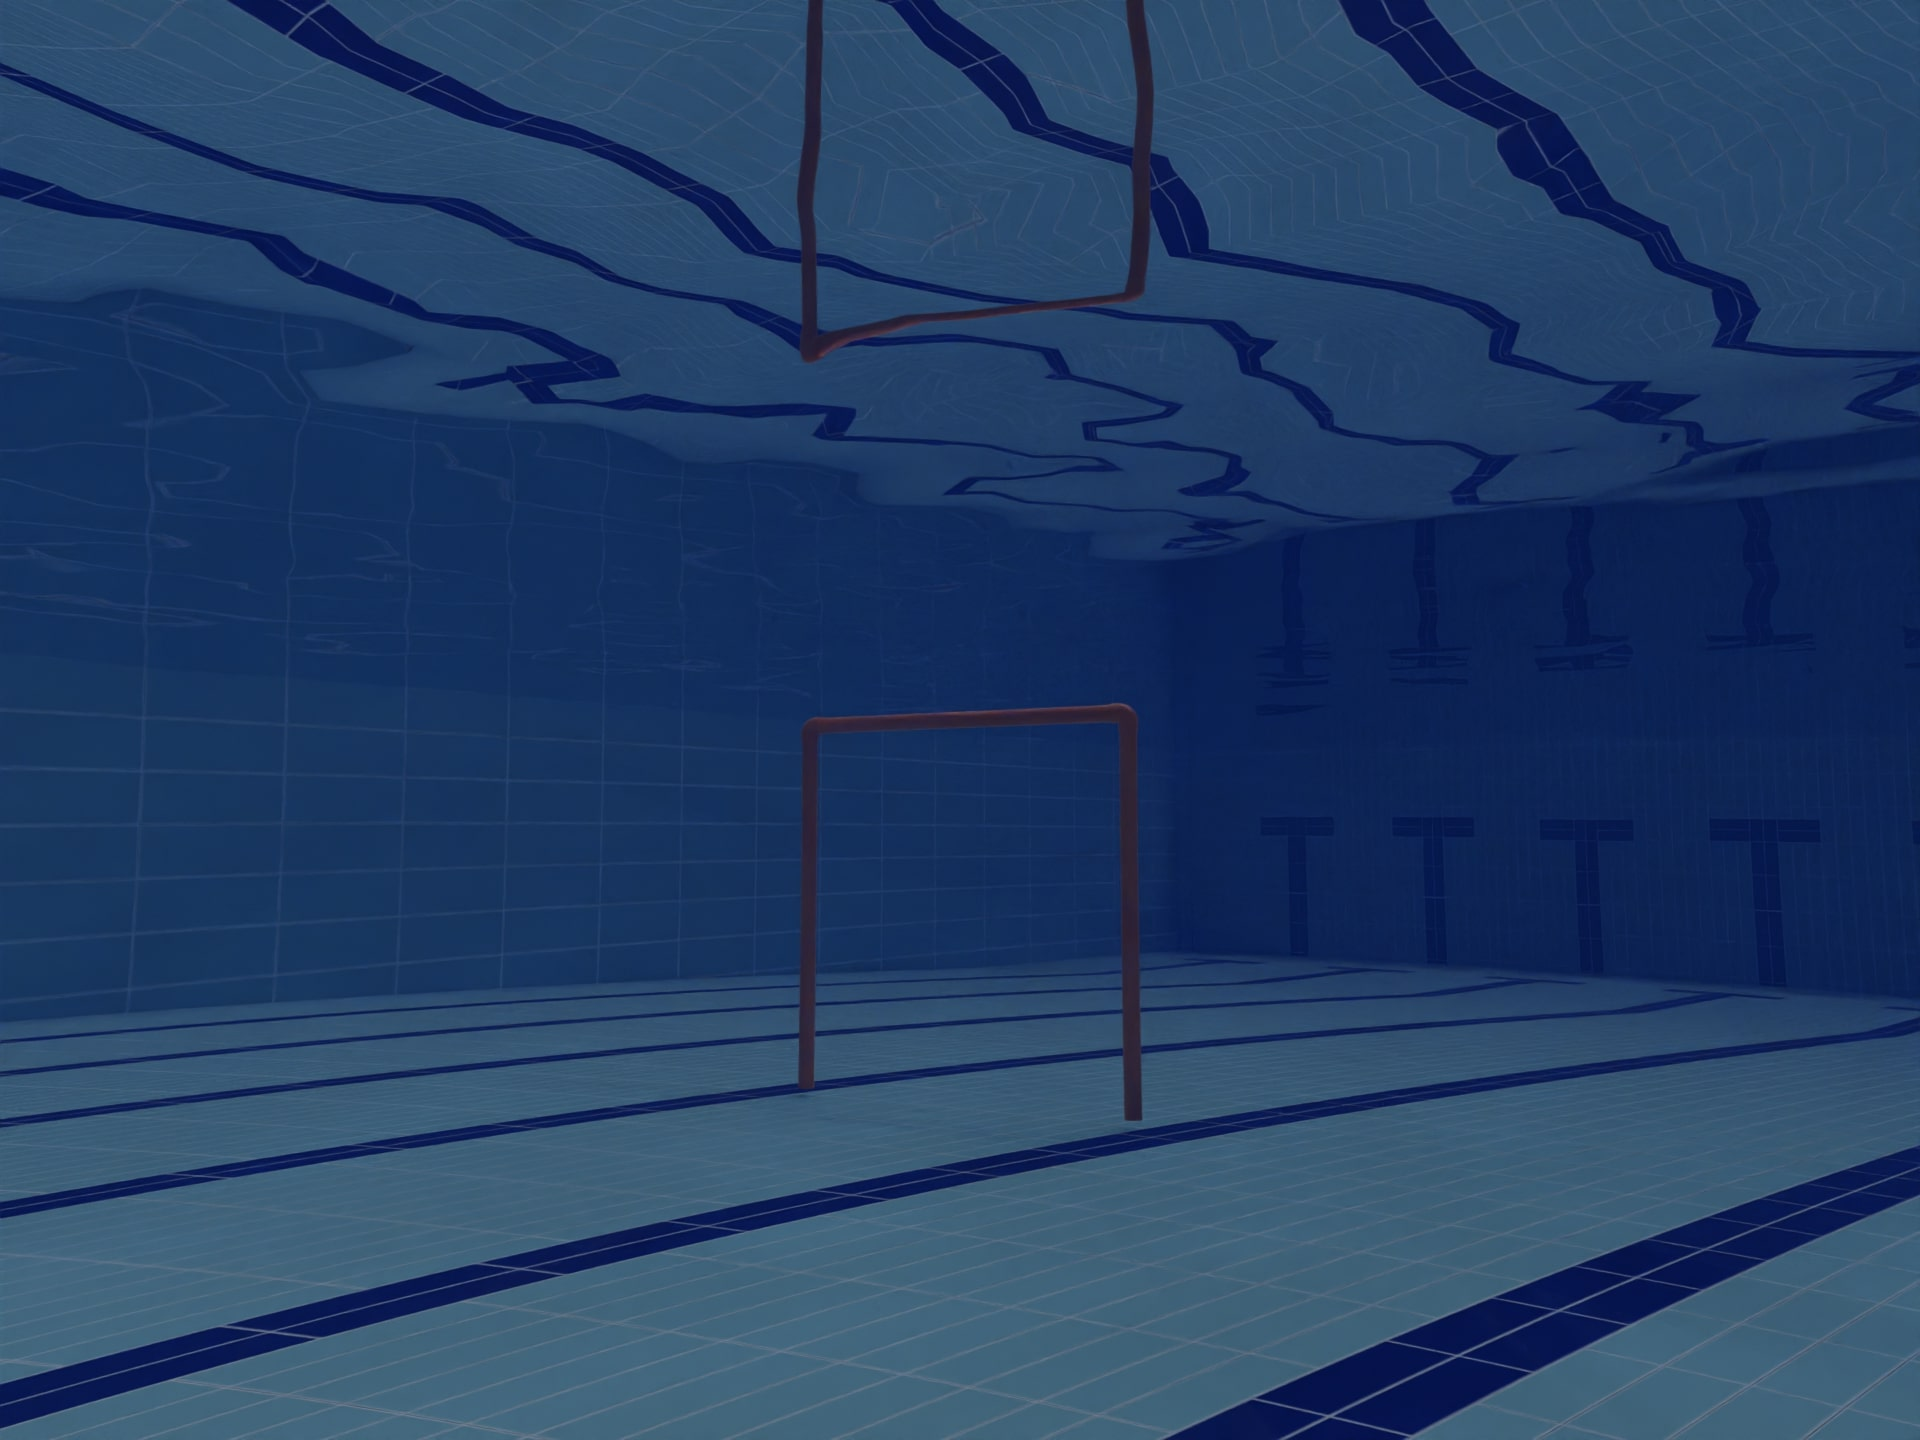gate: (753, 670, 1197, 1150)
